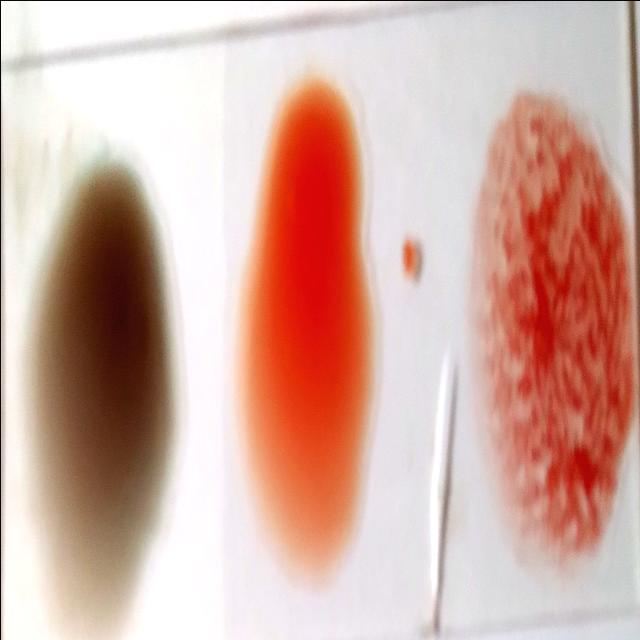D: (468, 105, 626, 550)
